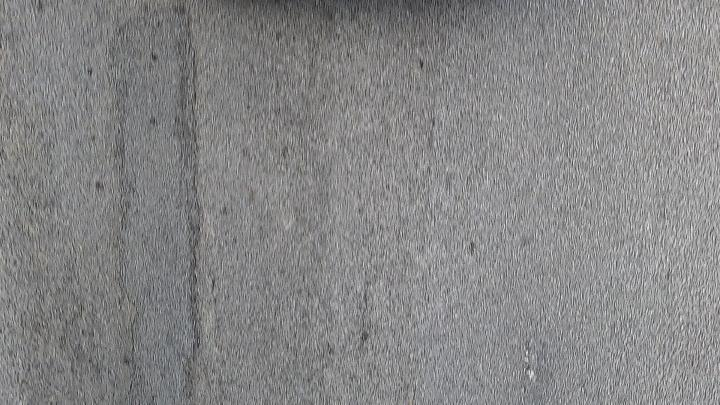Crack: (108, 9, 204, 405), (108, 23, 156, 404), (172, 6, 201, 403)
